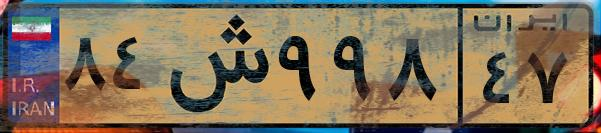4: (475, 38, 525, 113), (110, 28, 158, 98)
7: (525, 38, 570, 115)
8: (385, 28, 445, 110), (57, 26, 110, 100)
9: (270, 28, 330, 110), (330, 28, 385, 110)
ش: (158, 12, 270, 120)
